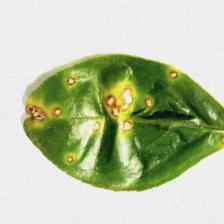canker: (21, 59, 179, 167)
